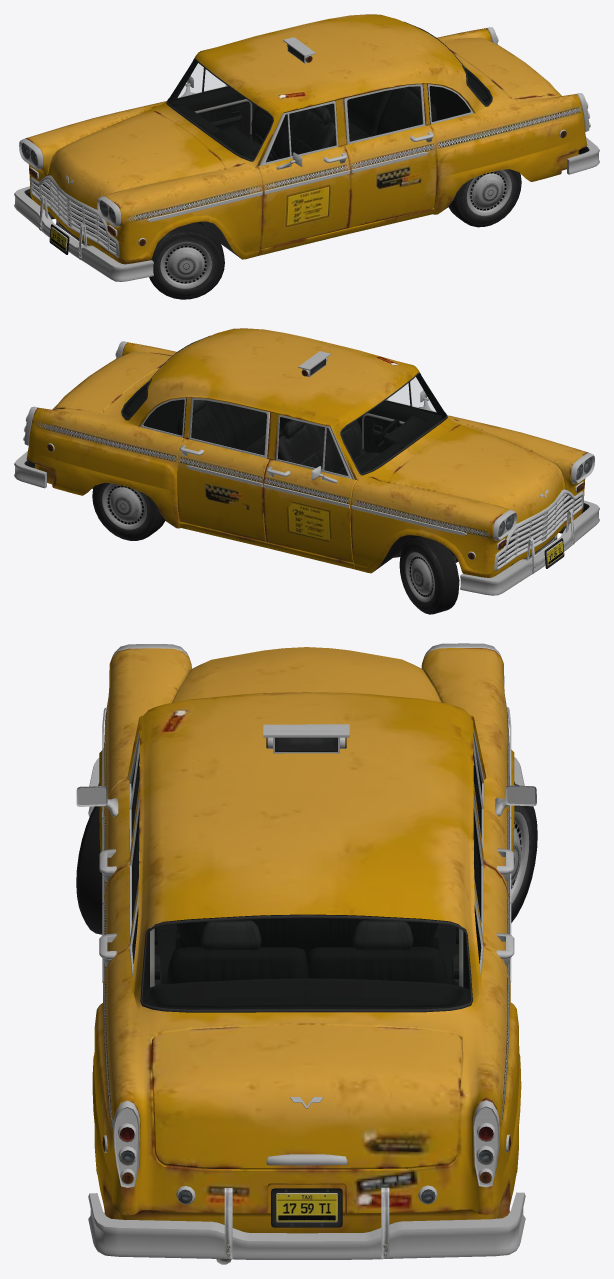
The model's file is canyon_75_taxi_low_poly_model.glb.
3 views of the same model, one above another, from view 1: azimuth 30°, elevation 25°; view 2: azimuth 150°, elevation 25°; view 3: azimuth 270°, elevation 25° (orthographic). The views are drawn at different scales.
Parts seen in each view (by area): view 1: Body_Taxi_old_bodycolour_0, Hood_Taxi_old_bodycolour_0, Door_RL_Taxi_old_bodycolour_0, Door_FL_Taxi_old_bodycolour_0, Seats_GEN4DR_INTERIOR_0, Bottom_UCB_BOTTOM_0, Wheel_FL_RIMSTOCK_05_0, Trunk_door_Taxi_old_bodycolour_0, Bumper_front_UCB_BOTTOM_0, Wheel_RL_RIMSTOCK_05_0, Door_inner_FL_UCB_BOTTOM_0 (×2), Doorcard_FR_GEN4DR_INTERIOR_0 (+5 smaller); view 2: Body_Taxi_old_bodycolour_0, Hood_Taxi_old_bodycolour_0, Door_RR_Taxi_old_bodycolour_0, Door_FR_Taxi_old_bodycolour_0, Seats_GEN4DR_INTERIOR_0, Bottom_UCB_BOTTOM_0, Wheel_FR_RIMSTOCK_05_0, Trunk_door_Taxi_old_bodycolour_0, Wheel_RR_RIMSTOCK_05_0, Bumper_front_UCB_BOTTOM_0, Doorcard_FL_GEN4DR_INTERIOR_0, Interior_GEN4DR_INTERIOR_0 (+6 smaller); view 3: Body_Taxi_old_bodycolour_0, Trunk_door_Taxi_old_bodycolour_0, Seats_GEN4DR_INTERIOR_0, Bumper_rear_UCB_BOTTOM_0, Interior_GEN4DR_INTERIOR_0, Hood_Taxi_old_bodycolour_0, Bottom_UCB_BOTTOM_0, Taillights_UCB_BOTTOM_0, Door_inner_FL_UCB_BOTTOM_0 (×2), Wheel_FL_RIMSTOCK_05_0, Taxi_rooflight_UCB_BOTTOM_0, Wheel_FR_RIMSTOCK_05_0 (+10 smaller).
Part boxes in pixels (x1,y1,x2,y2): Body_Taxi_old_bodycolour_0: [25, 14, 587, 264]; Hood_Taxi_old_bodycolour_0: [48, 110, 225, 209]; Door_RL_Taxi_old_bodycolour_0: [344, 125, 436, 228]; Door_FL_Taxi_old_bodycolour_0: [256, 145, 350, 249]; Seats_GEN4DR_INTERIOR_0: [248, 86, 436, 162]; Bottom_UCB_BOTTOM_0: [29, 21, 566, 258]; Wheel_FL_RIMSTOCK_05_0: [149, 222, 224, 299]; Trunk_door_Taxi_old_bodycolour_0: [441, 37, 561, 99]; Bumper_front_UCB_BOTTOM_0: [14, 186, 153, 281]; Wheel_RL_RIMSTOCK_05_0: [448, 169, 521, 227]; Door_inner_FL_UCB_BOTTOM_0 (×2): [259, 84, 433, 194]; Doorcard_FR_GEN4DR_INTERIOR_0: [172, 61, 254, 136]; Body_Taxi_old_bodycolour_0: [26, 328, 588, 577]; Hood_Taxi_old_bodycolour_0: [387, 424, 565, 523]; Door_RR_Taxi_old_bodycolour_0: [177, 438, 269, 541]; Door_FR_Taxi_old_bodycolour_0: [263, 459, 357, 562]; Seats_GEN4DR_INTERIOR_0: [177, 400, 381, 475]; Bottom_UCB_BOTTOM_0: [47, 335, 584, 571]; Wheel_FR_RIMSTOCK_05_0: [399, 536, 459, 614]; Trunk_door_Taxi_old_bodycolour_0: [52, 352, 172, 412]; Wheel_RR_RIMSTOCK_05_0: [92, 482, 165, 540]; Bumper_front_UCB_BOTTOM_0: [460, 500, 599, 595]; Doorcard_FL_GEN4DR_INTERIOR_0: [359, 375, 441, 452]; Interior_GEN4DR_INTERIOR_0: [122, 374, 447, 434]; Body_Taxi_old_bodycolour_0: [92, 648, 521, 1233]; Trunk_door_Taxi_old_bodycolour_0: [151, 1025, 461, 1169]; Seats_GEN4DR_INTERIOR_0: [167, 914, 446, 1009]; Bumper_rear_UCB_BOTTOM_0: [88, 1187, 525, 1259]; Interior_GEN4DR_INTERIOR_0: [132, 751, 481, 1039]; Hood_Taxi_old_bodycolour_0: [172, 647, 441, 702]; Bottom_UCB_BOTTOM_0: [94, 707, 518, 1227]; Taillights_UCB_BOTTOM_0: [113, 1100, 499, 1187]; Door_inner_FL_UCB_BOTTOM_0 (×2): [76, 729, 139, 983]; Wheel_FL_RIMSTOCK_05_0: [76, 806, 102, 934]; Taxi_rooflight_UCB_BOTTOM_0: [263, 724, 349, 753]; Wheel_FR_RIMSTOCK_05_0: [511, 784, 537, 922].
Bounding box in the file's own units: 209 × 71.6 × 84.09.
Materials: 7 (7 with a texture image).
